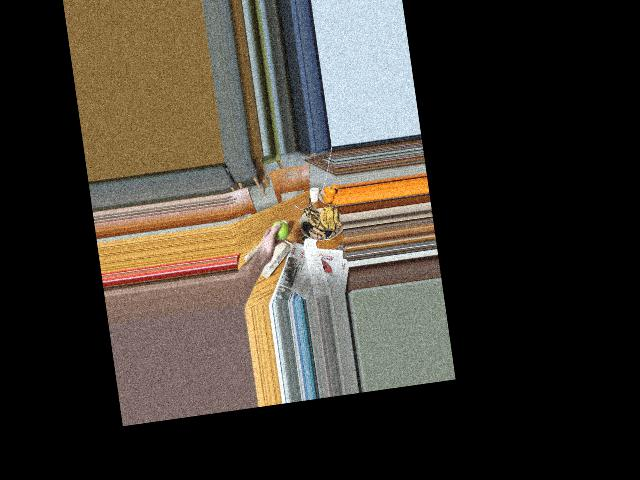apple: (267, 218, 291, 243)
